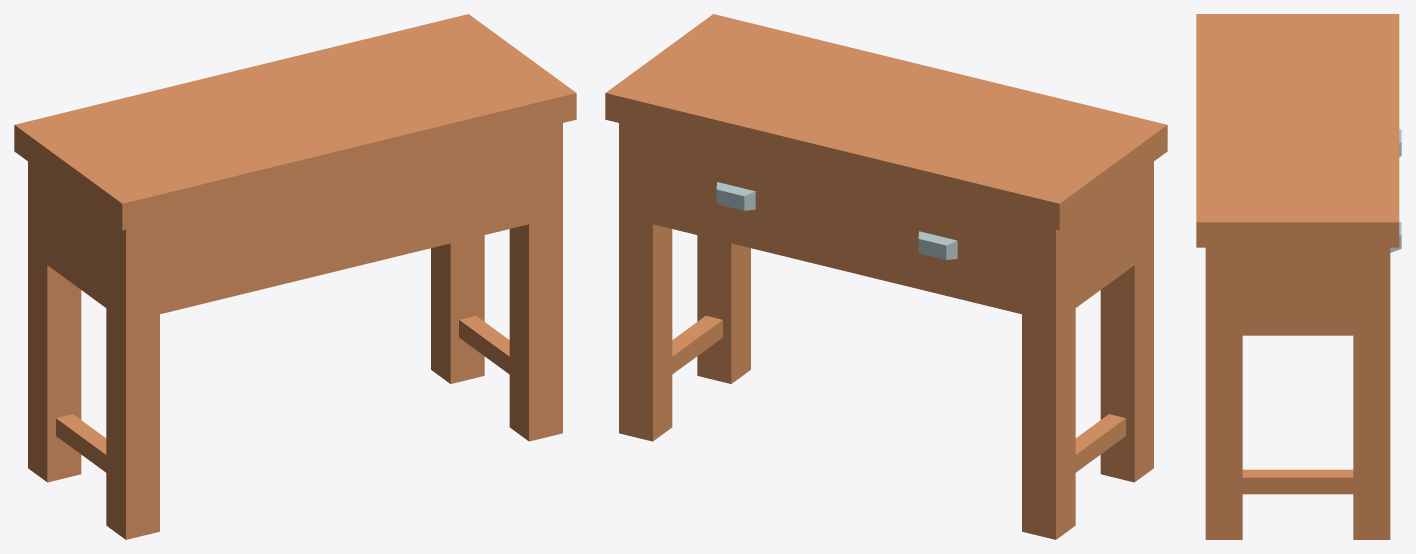
Rendered from sideTableDrawers.obj.
3 renders of one model, left to right at view 1: azimuth 30°, elevation 25°; view 2: azimuth 150°, elevation 25°; view 3: azimuth 270°, elevation 25°, orthographic. The views are drawn at different scales.
Visible parts, largest first — view 1: sideTableDrawers; view 2: sideTableDrawers, drawerRight, drawerLeft; view 3: sideTableDrawers.
Part boxes in pixels (x1,y1,x2,y2): sideTableDrawers: (14, 14, 576, 539); sideTableDrawers: (605, 14, 1167, 539); drawerRight: (854, 202, 1021, 287); drawerLeft: (653, 153, 819, 238); sideTableDrawers: (1196, 14, 1399, 539).
Bounding box in the file's own units: 0.5345 × 0.3844 × 0.2223.
